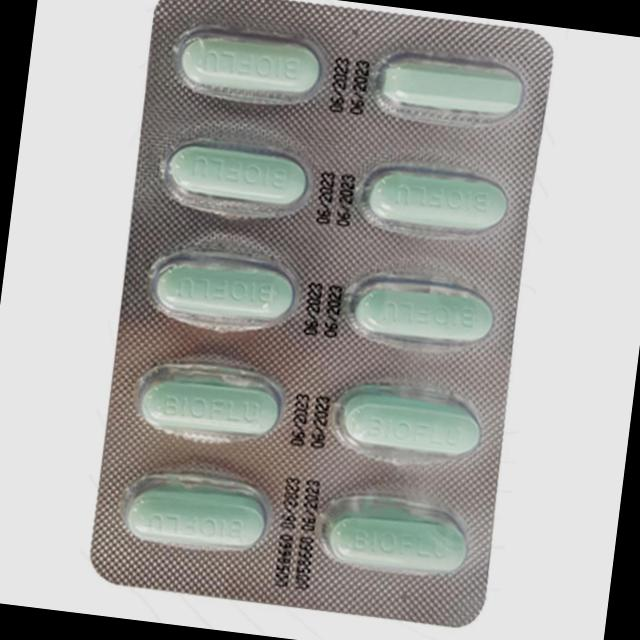blister: (85, 0, 559, 635)
